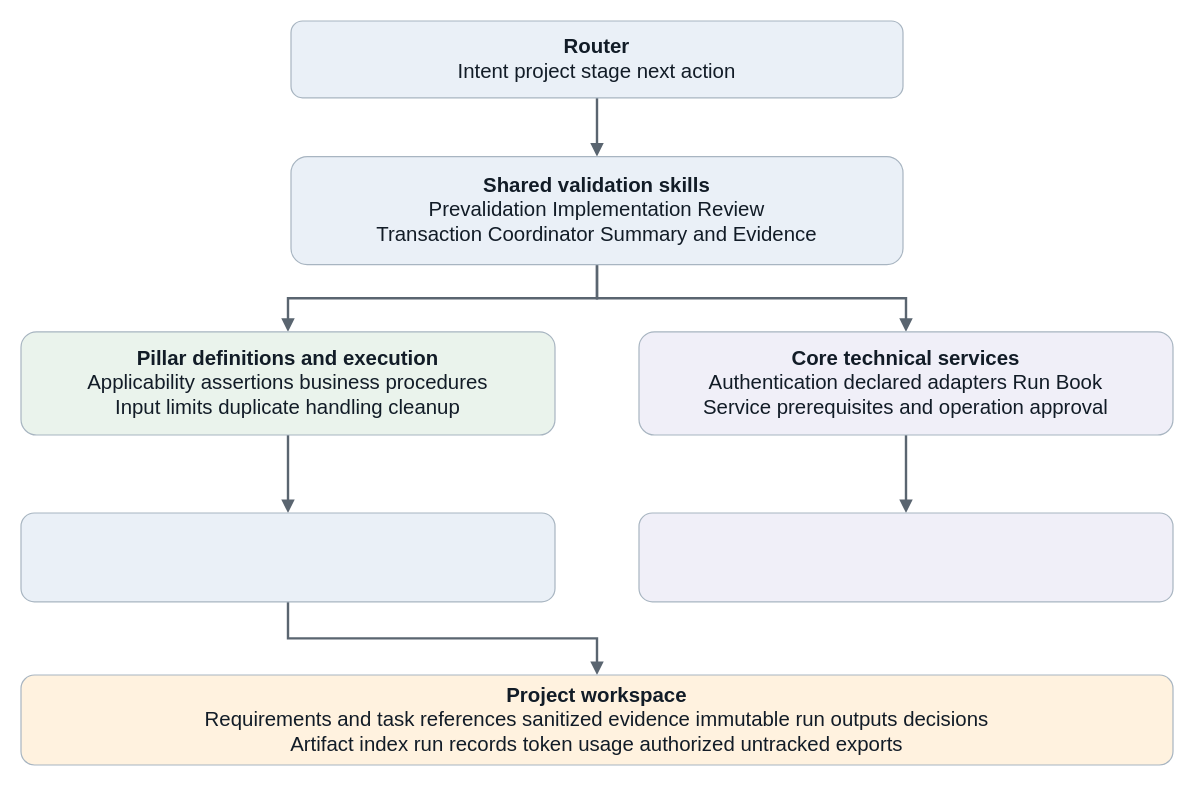
Some shapes in this 1194 by 786 pixel diagram are drawn without their labels. The shapes that lost their labels are listed below. From the top down, each one's centre as x and y in pixels, then its label:
pixel 287 557: Schemas and local report tools Contract checks readiness rules HTML and JSON
pixel 905 557: Fusion environment Access only through a declared approved route
